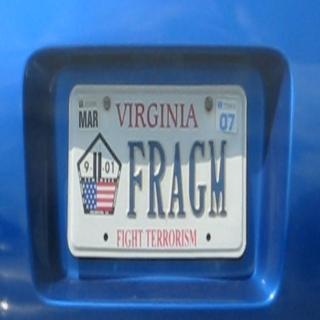license: (68, 83, 248, 260)
